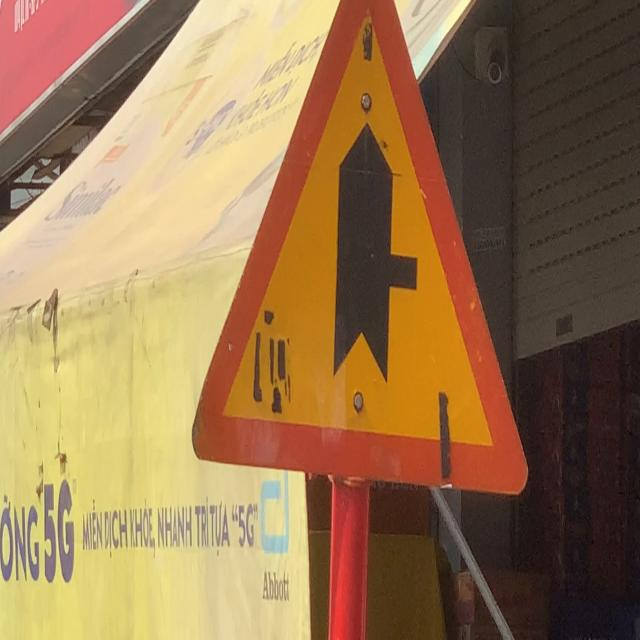Giao voi duong khong uu tien: (185, 0, 534, 513)
